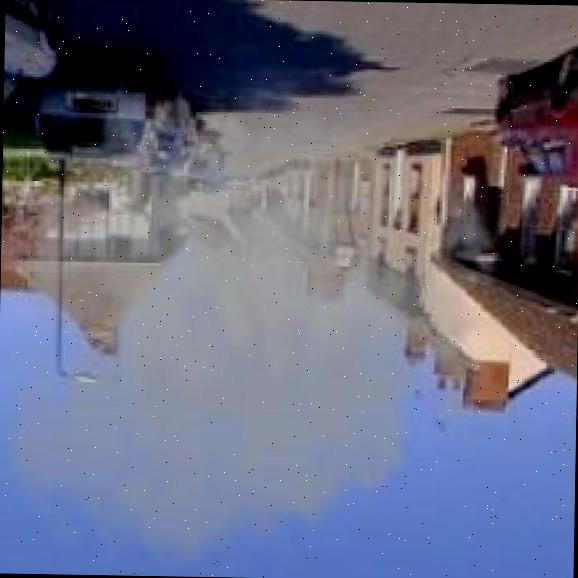smoke: (0, 45, 517, 578)
